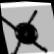not correct: (1, 6, 54, 54)
